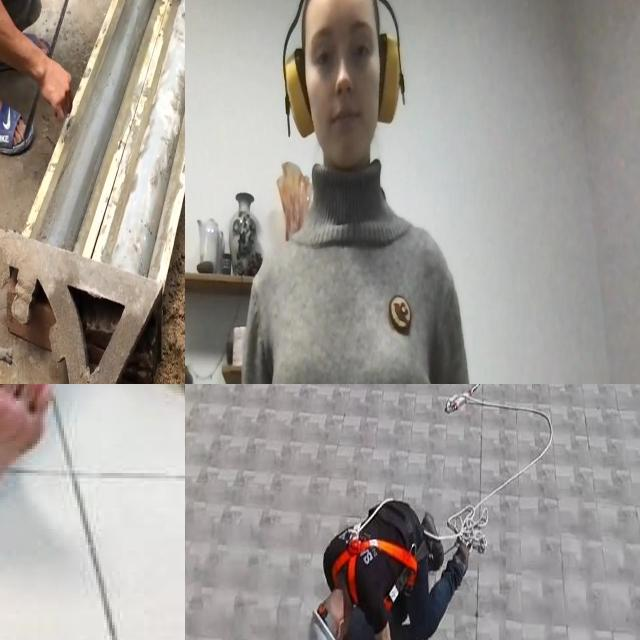Barefoots: (0, 384, 52, 531)
Ear-protection: (279, 0, 406, 174)
Harness: (437, 384, 555, 552), (331, 540, 417, 606)
No_Glasses: (306, 15, 377, 75)
Sandals: (0, 77, 31, 152)
hand_noglove: (32, 45, 72, 114)
